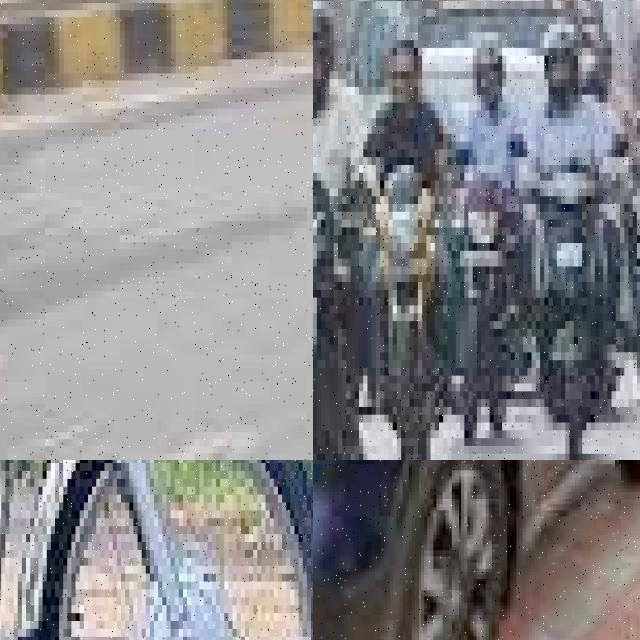bike: (0, 460, 313, 640), (523, 141, 632, 460), (367, 141, 447, 460), (456, 157, 515, 460), (313, 141, 350, 460)
car: (313, 460, 640, 640)
